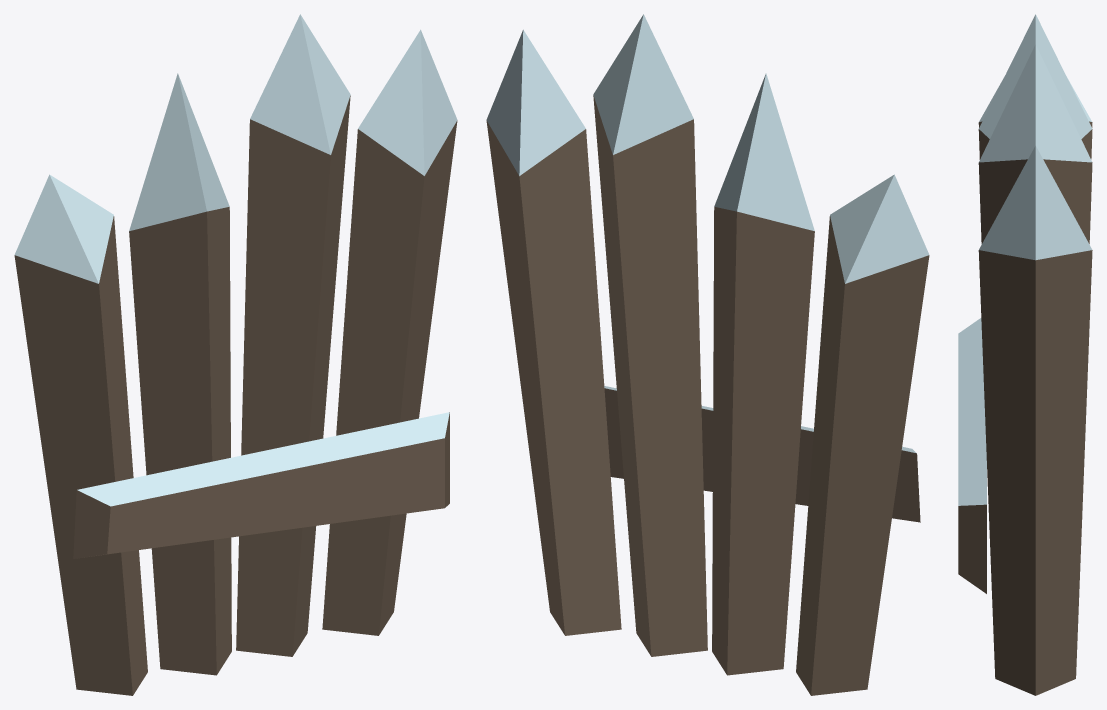
The model's file is SM_Prop_Viking_Fence_01_Snow.fbx.
3 views of the same model, side by side, from view 1: azimuth 30°, elevation 25°; view 2: azimuth 150°, elevation 25°; view 3: azimuth 270°, elevation 25° (orthographic). The views are drawn at different scales.
Visible parts, largest first — view 1: SM_Prop_Viking_Fence_01_Snow; view 2: SM_Prop_Viking_Fence_01_Snow; view 3: SM_Prop_Viking_Fence_01_Snow.
Boxes of the visible parts, <box> form: SM_Prop_Viking_Fence_01_Snow: <box>14,14,457,695</box>; SM_Prop_Viking_Fence_01_Snow: <box>486,14,929,695</box>; SM_Prop_Viking_Fence_01_Snow: <box>958,14,1092,695</box>.
Size of the model in its own units: 57.24 by 76.65 by 15.34.
1 material, 1 textured.
